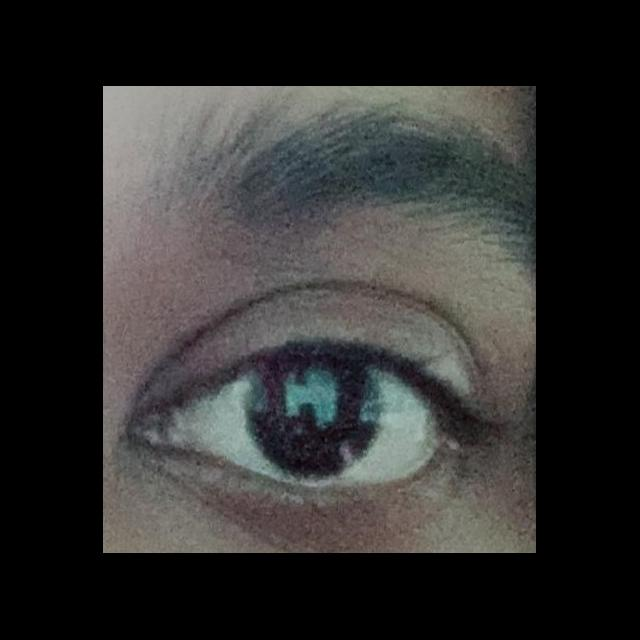eye: (171, 350, 449, 489)
iris: (244, 359, 384, 477)
